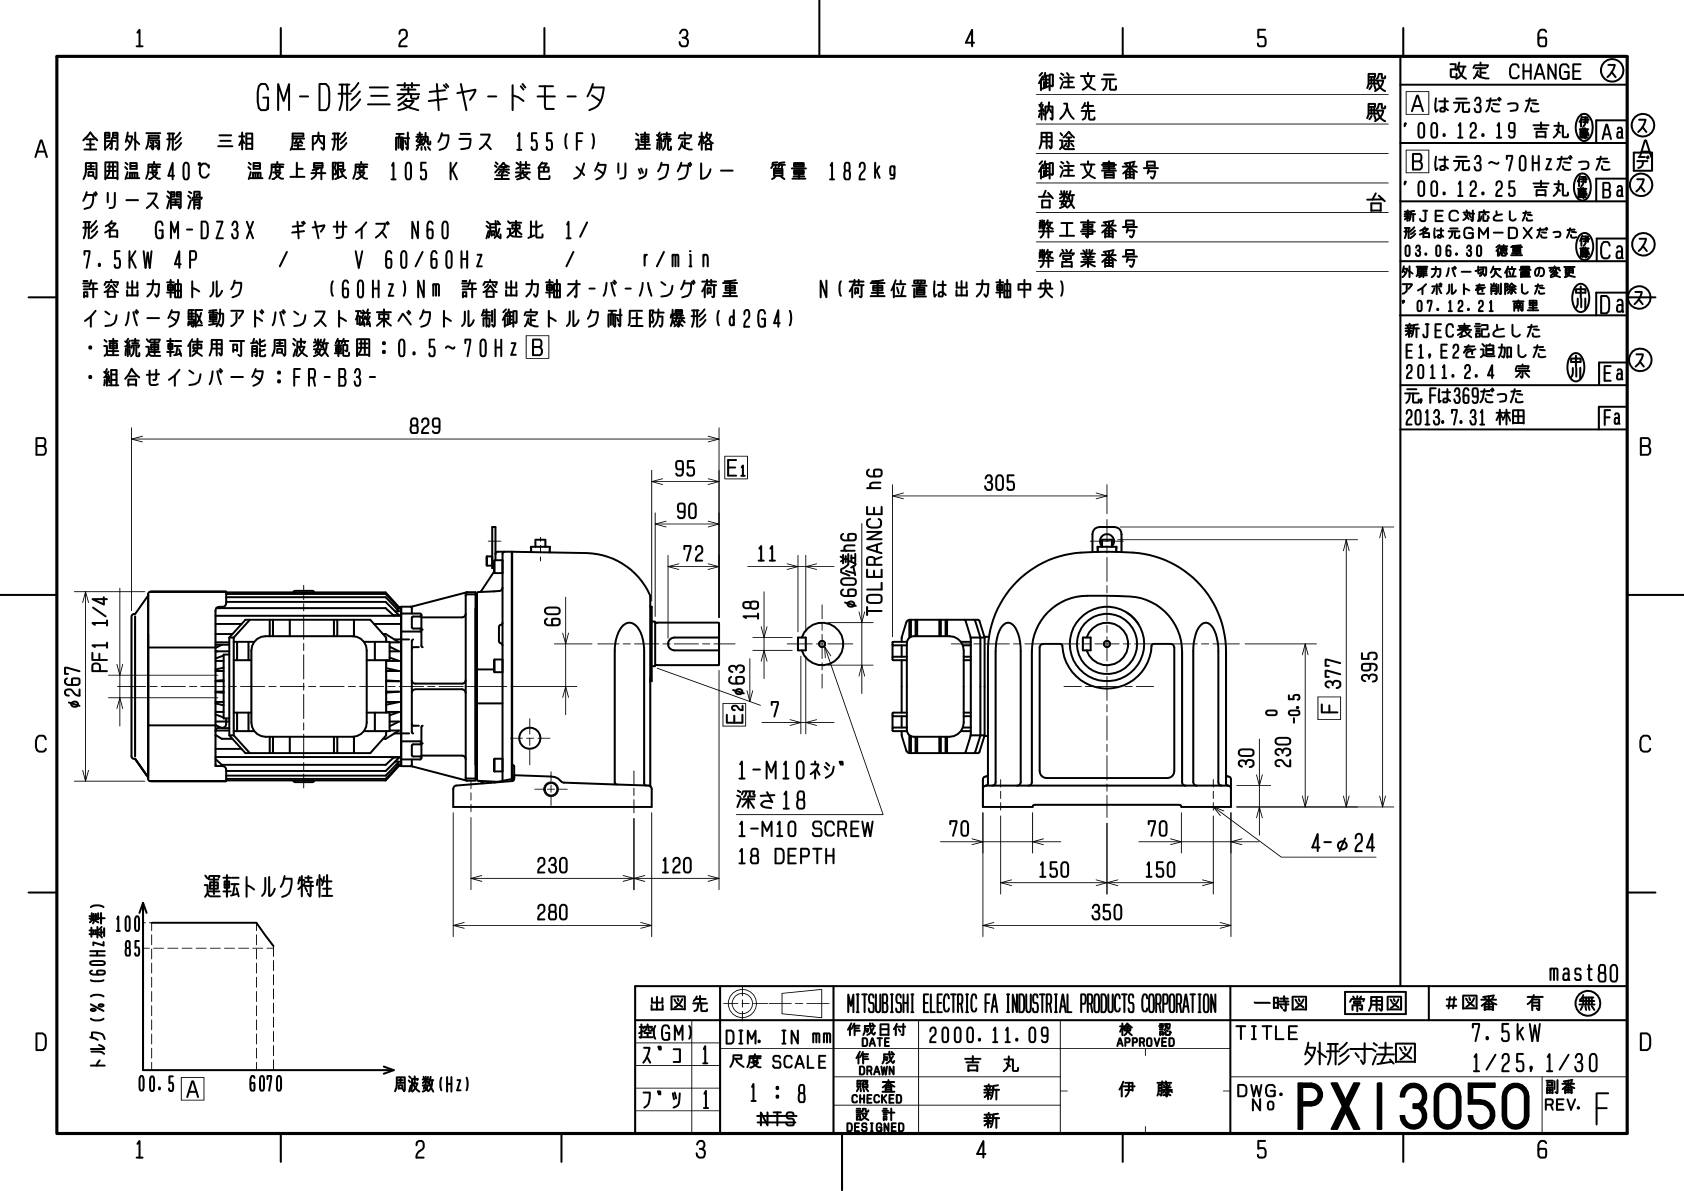GM_D_制御屋内_三相_脚: (58, 409, 1399, 980)
